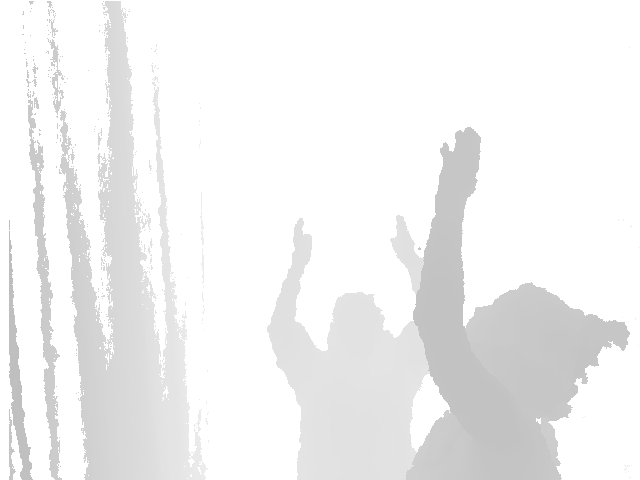hand: (435, 127, 479, 195), (390, 216, 417, 266), (290, 219, 312, 268)
head: (461, 282, 629, 419), (327, 292, 385, 357)
person: (404, 127, 628, 480), (266, 216, 433, 480)
